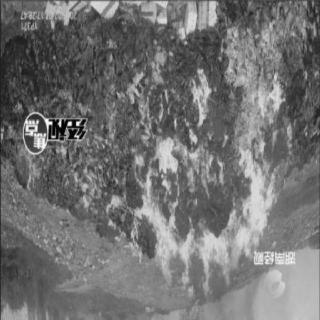Fire: (103, 69, 299, 298), (24, 172, 34, 192)
